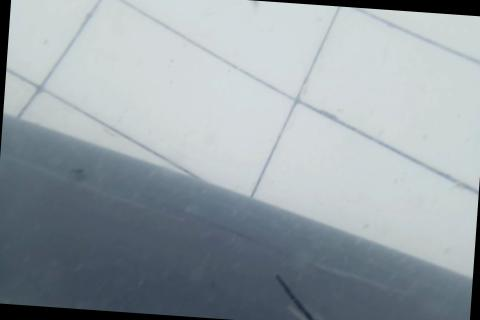keretakan: (269, 272, 326, 320)
